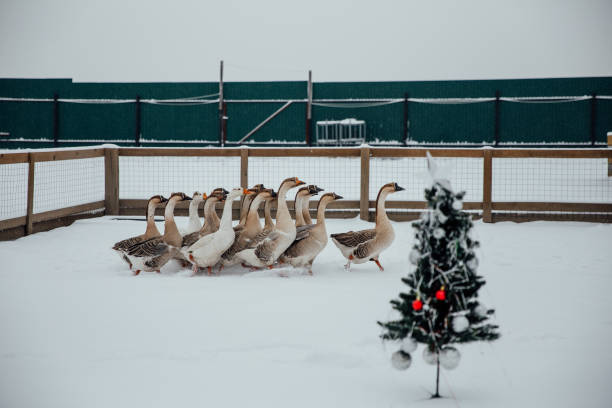goose: (237, 172, 307, 276), (333, 178, 408, 274), (181, 183, 244, 280), (284, 190, 345, 278), (131, 188, 191, 277), (116, 193, 166, 253), (237, 183, 275, 239), (291, 180, 323, 229)
